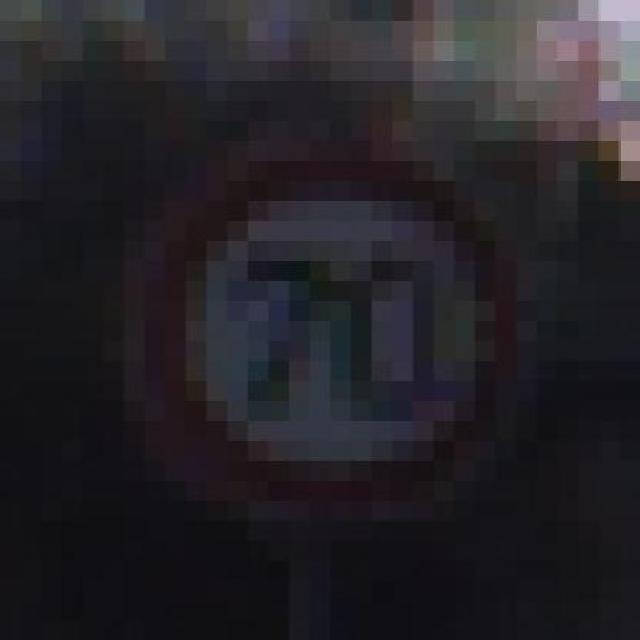forb_speed_over_70: (162, 151, 509, 505)
